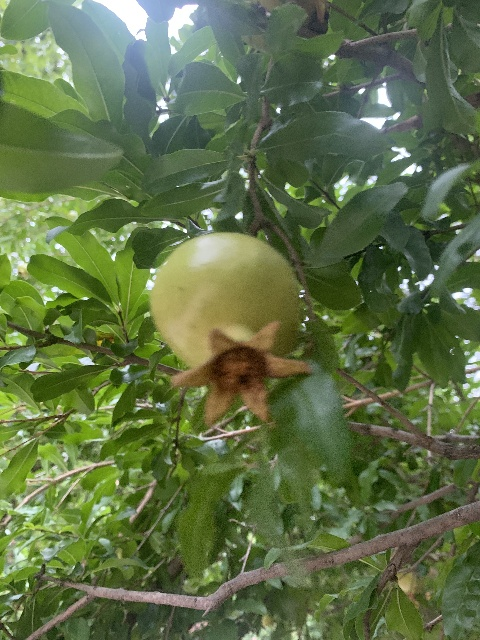mid-growth: (149, 231, 312, 426)
